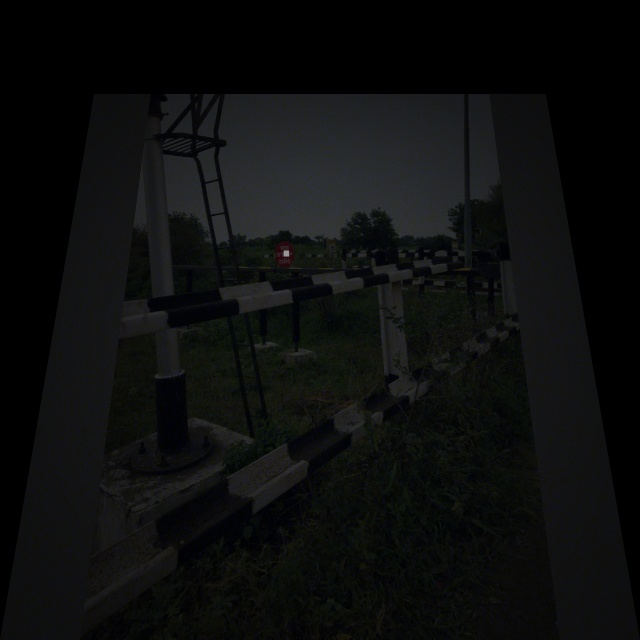Stop: (274, 241, 294, 267)
